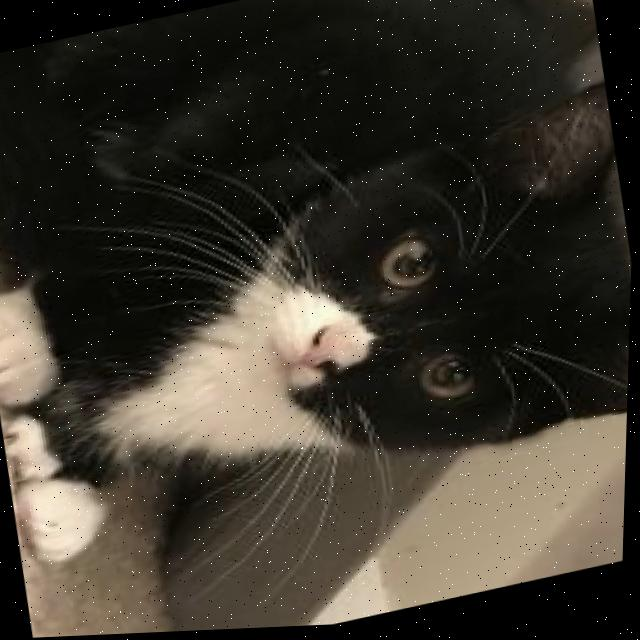Tuxedo: (0, 0, 640, 571)
